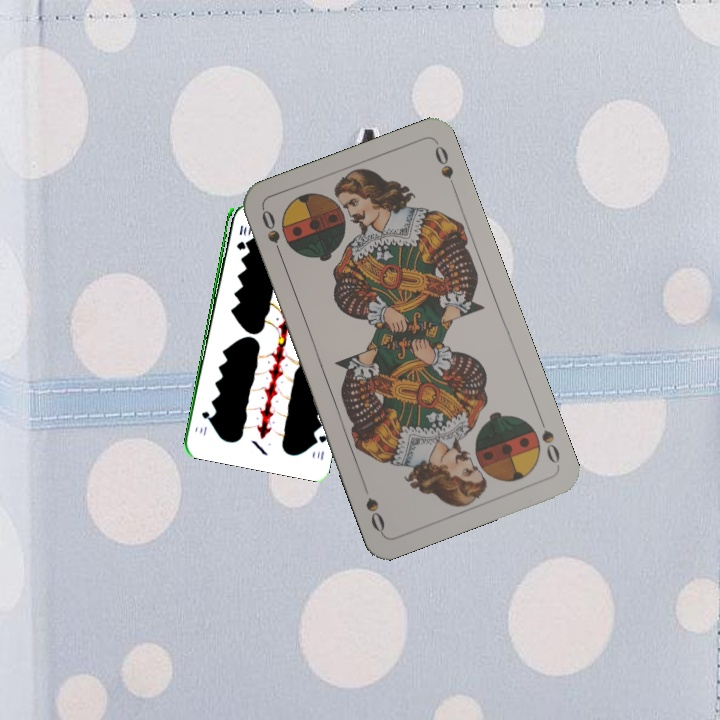G10: (310, 431, 329, 463), (232, 221, 246, 253)
SO: (257, 205, 287, 263), (534, 412, 563, 466)
